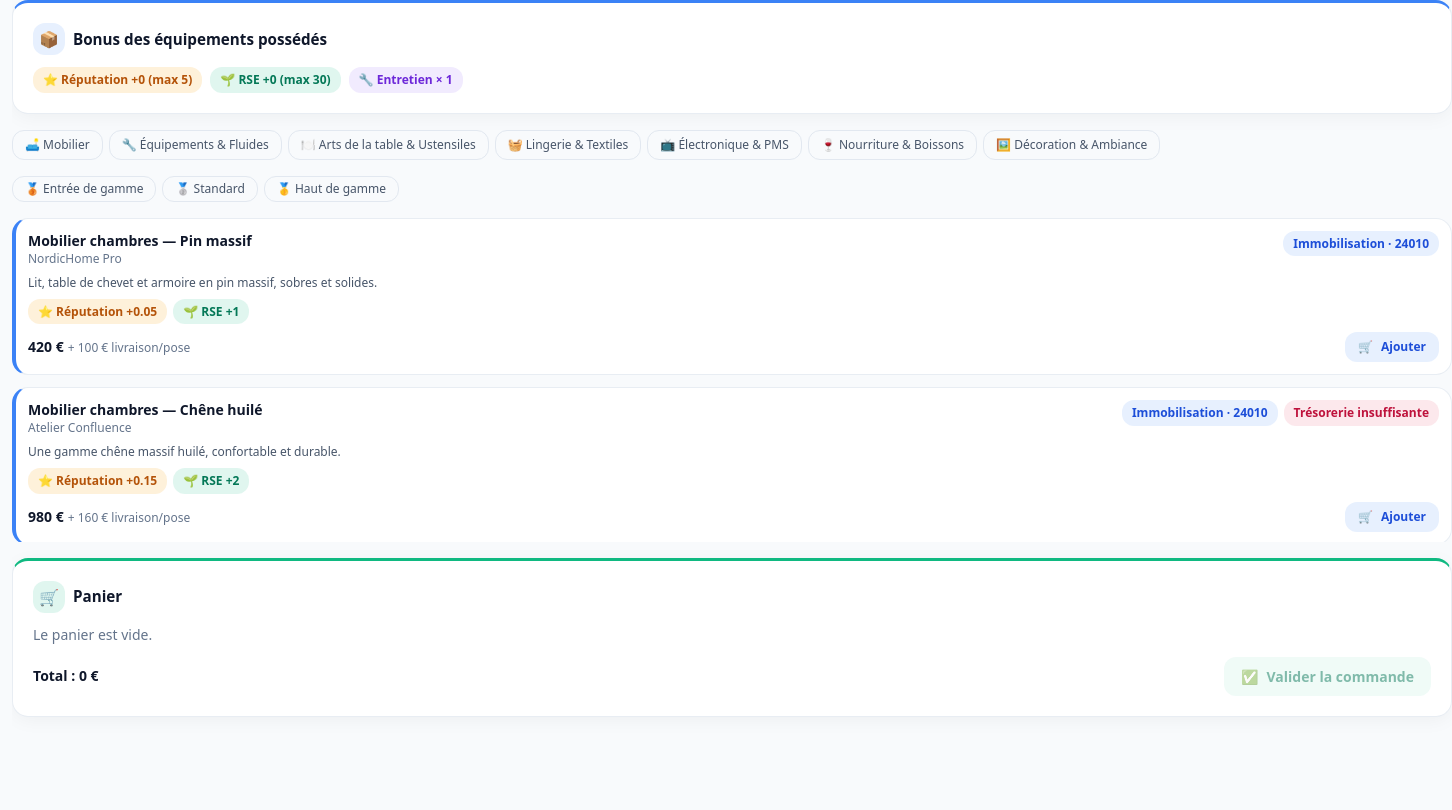
Test case: SuppliersPanel / the cart › locks the checkout, and says why, once the cart is too expensive
Click the tab with test id "suppliers-tab-decor": (1072, 145) [983, 130, 1160, 160]
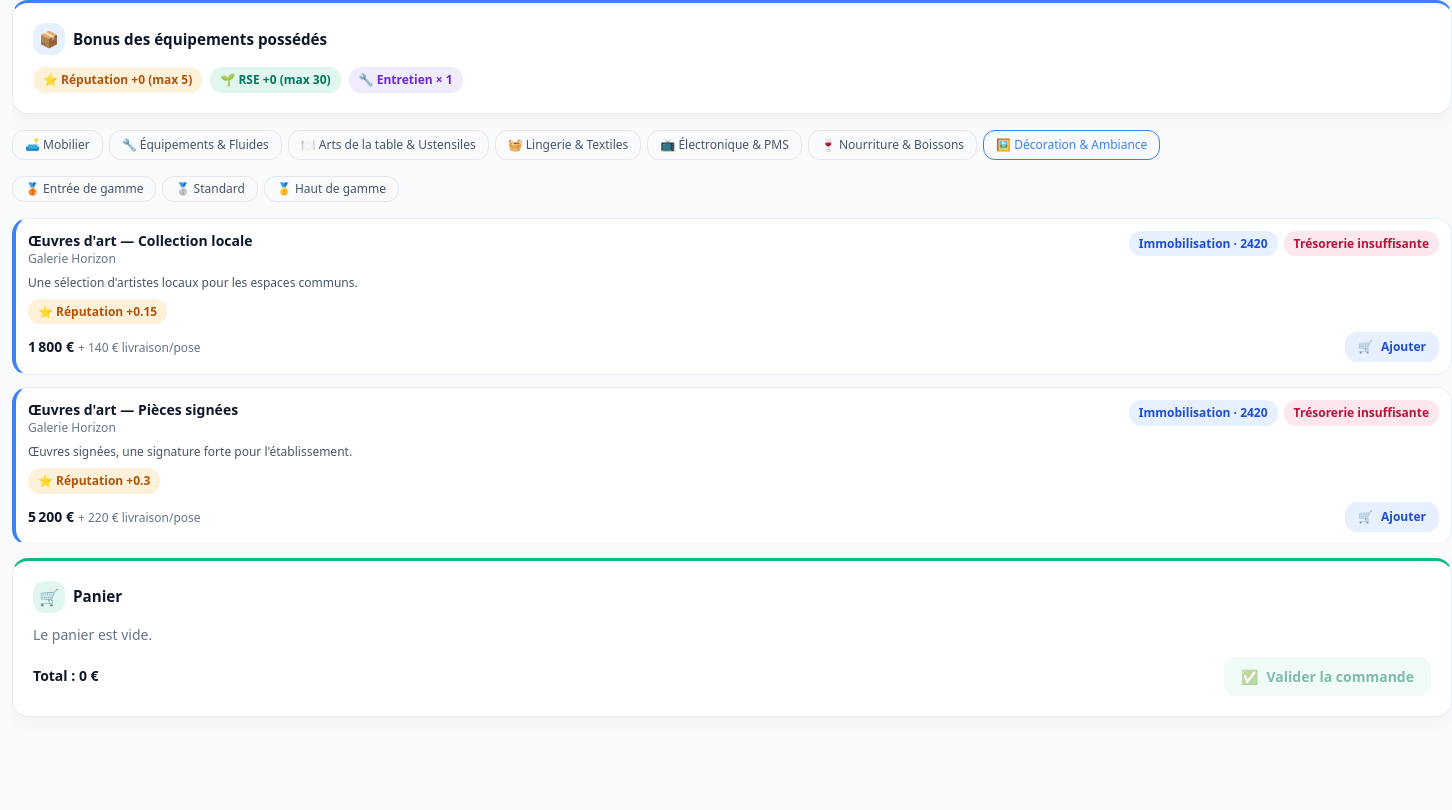
Click the button with test id "suppliers-tier-luxury": (332, 189) [264, 176, 399, 202]
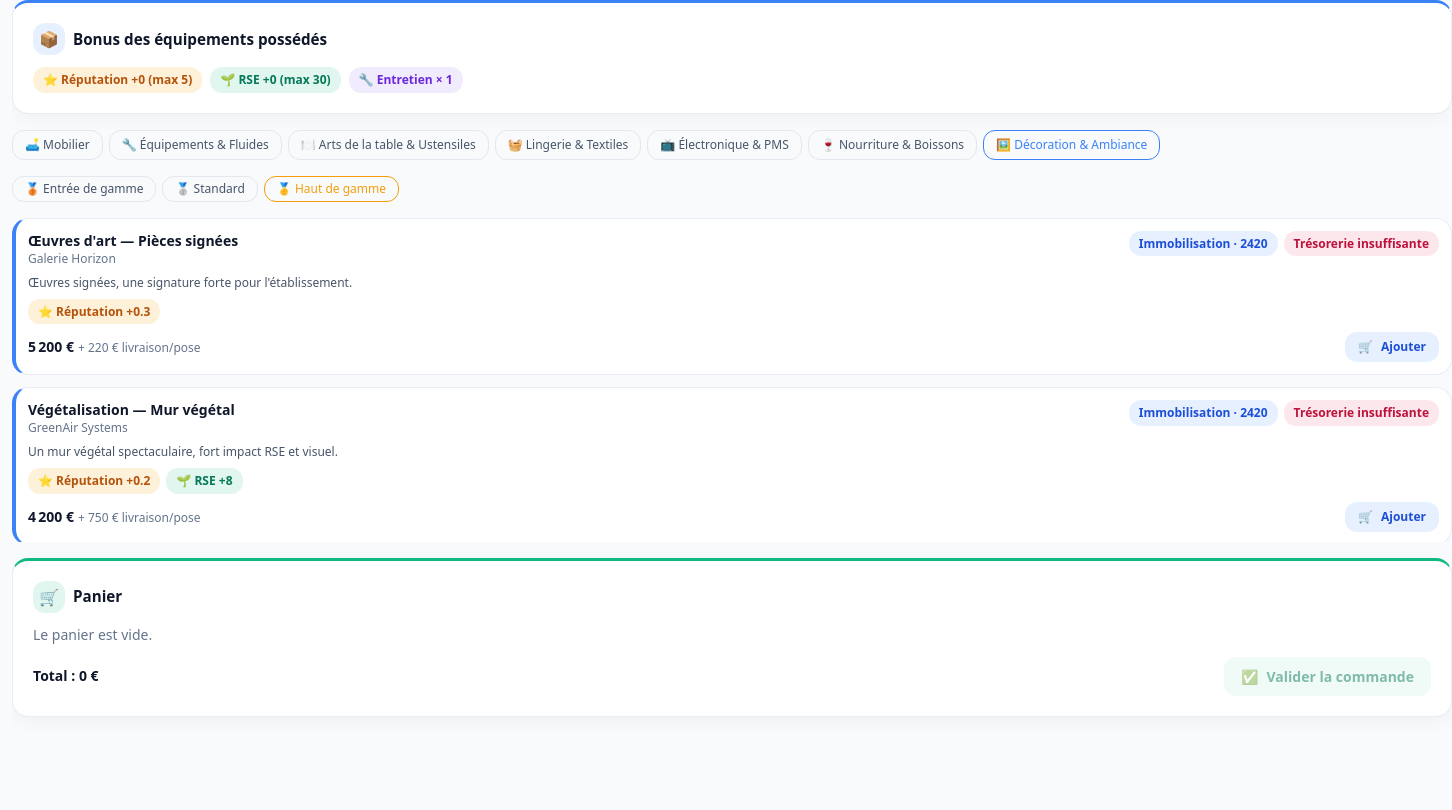
Click the button with test id "supplier-add-decor-art-luxury": (1392, 347) [1345, 332, 1439, 362]
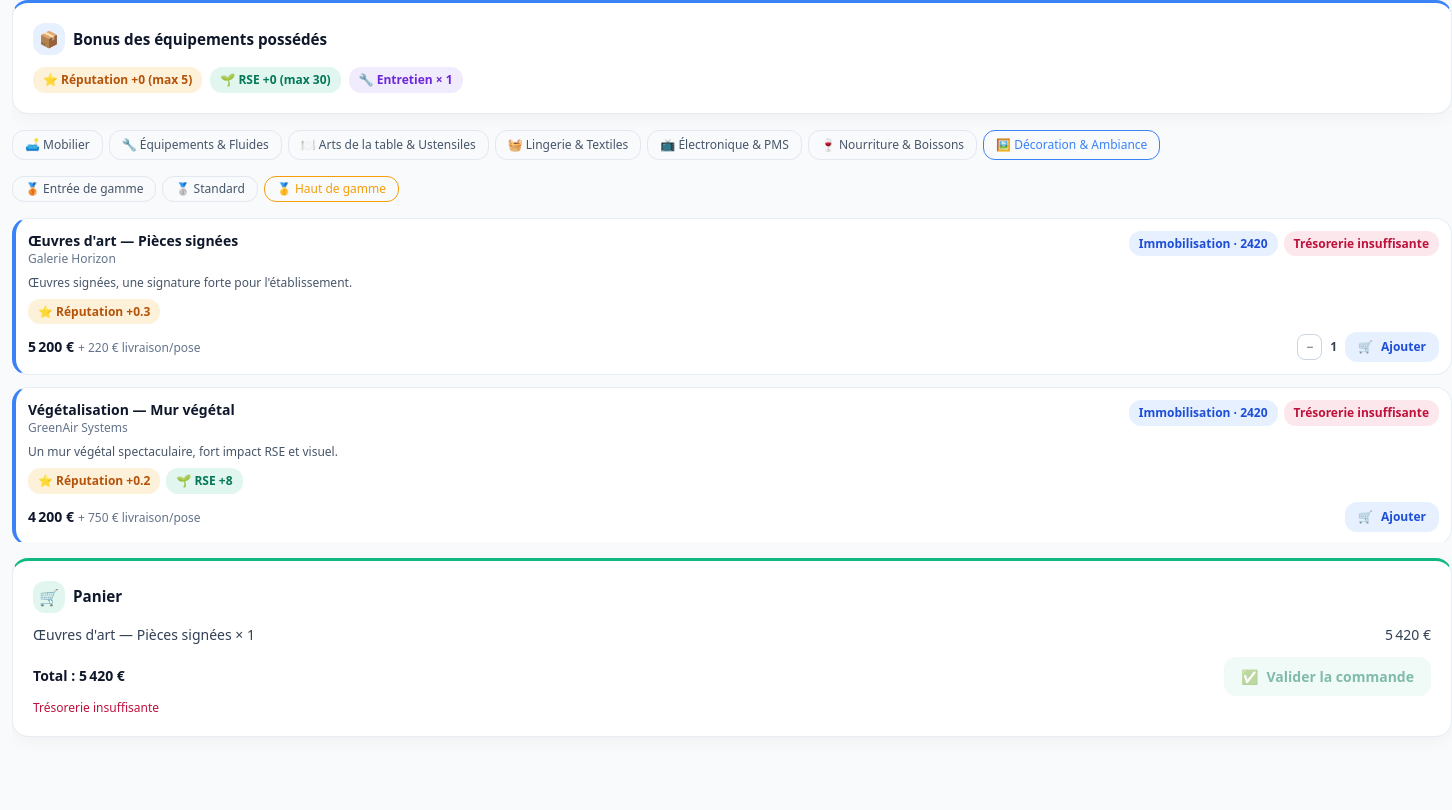
expect the button with test id "suppliers-checkout" is disabled: met, box [1224, 657, 1431, 696]
expect the text with test id "suppliers-cart-reason" reads "Trésorerie insuffisante": met, box [33, 699, 159, 716]
